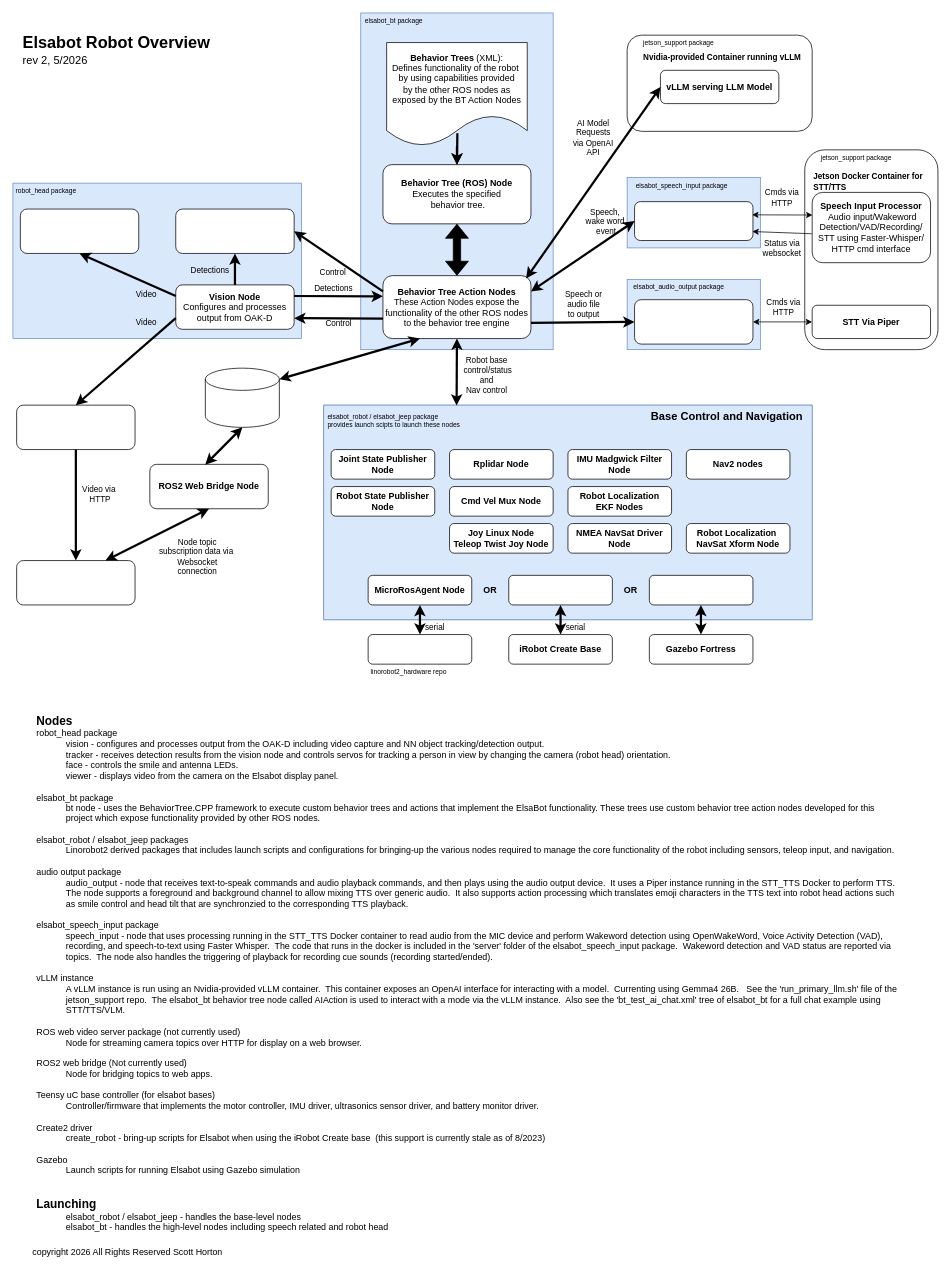
Some shapes in this 951 by 1278 pixel diagram are drawn without their labels. The centre of each missing label's shape, as x and y in pixels:
Audio Output Node Speech Synth and audio playback: the point at 693,321
Create2 Driver Node: the point at 560,590
Gazebo: ros_gz_sim and ros_gz_bridge: the point at 701,590
HTML Page for robot monitoring and setup: the point at 75,582
ROS Topics To/From various Nodes: the point at 242,397
ROS Web Video Server node: the point at 75,427
Speech Input Node Wake word detection Speech Recognition: the point at 693,220
Teensy uC Base Controller: the point at 419,649
Tracker Node Controls servos for tracking detected person.: the point at 234,230
Viewer Node Displays camera video on display panel: the point at 79,230
